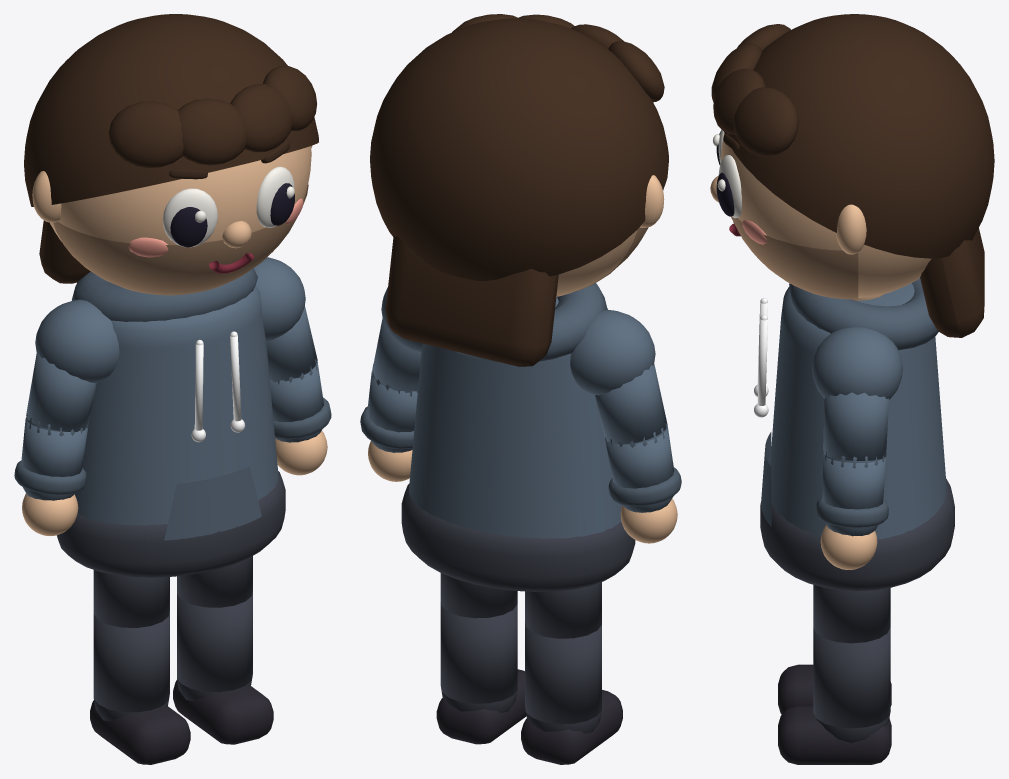
Rendered from ch_dima.fbx.
The picture shows the model from 3 angles, left to right: view 1: azimuth 30°, elevation 25°; view 2: azimuth 150°, elevation 25°; view 3: azimuth 270°, elevation 25°; orthographic projection.
Visible parts, largest first — view 1: ch_dima; view 2: ch_dima; view 3: ch_dima.
Part boxes in pixels (left/top/right/bottom): ch_dima: left=14, top=14, right=331, bottom=764; ch_dima: left=360, top=14, right=681, bottom=764; ch_dima: left=710, top=14, right=994, bottom=764.
Size of the model in its own units: 0.6913 by 1.51 by 0.5499.
